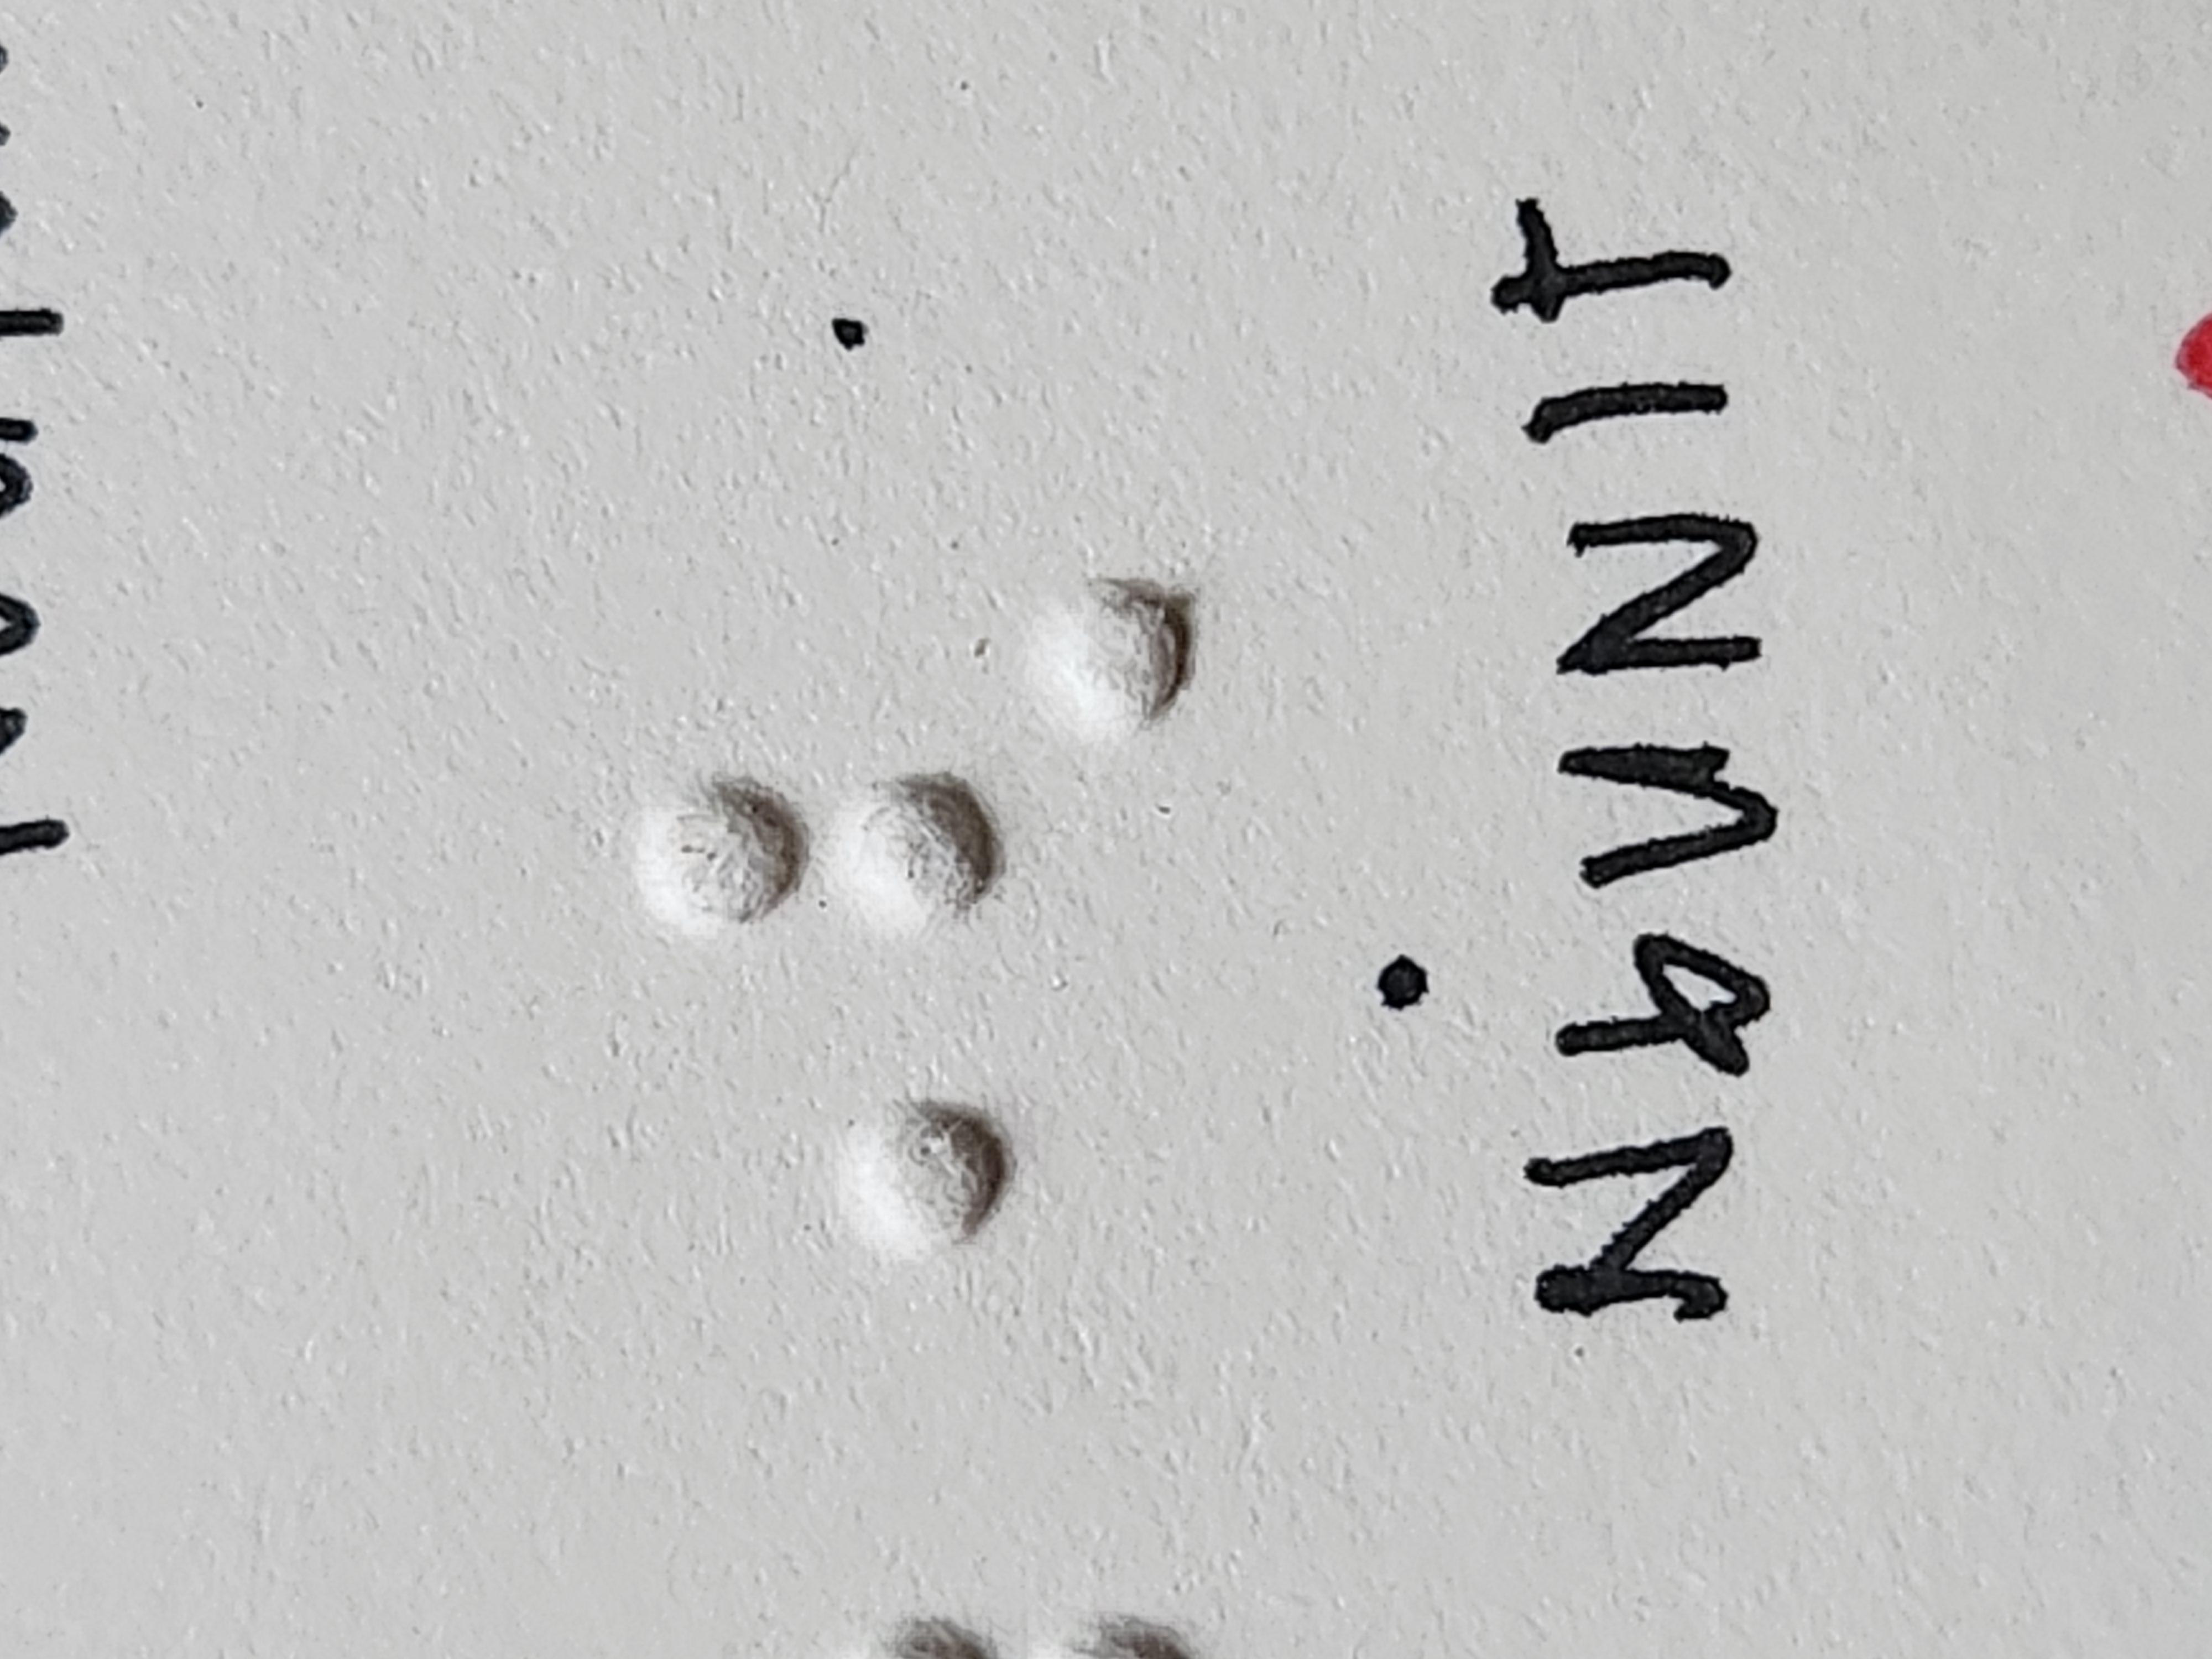dot_5: (270, 484, 751, 904)
two_cell_non_alphabet_ngunit: (960, 477, 1440, 897)
